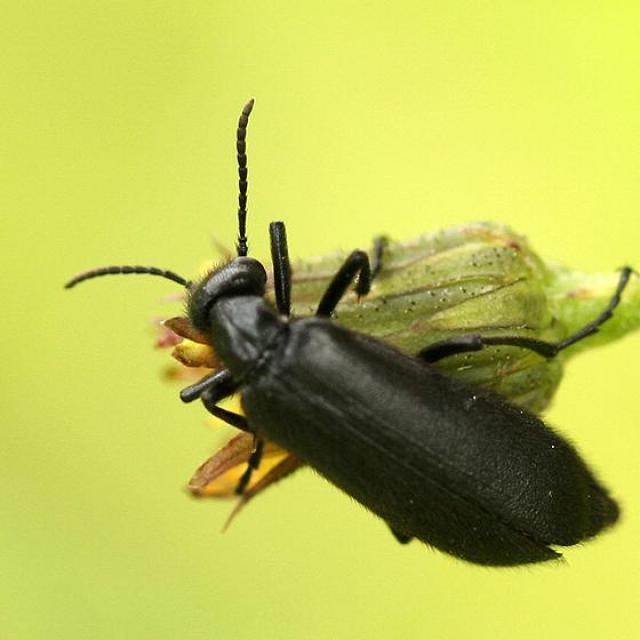BlisterBeetle-Adult-: (44, 95, 631, 573)
